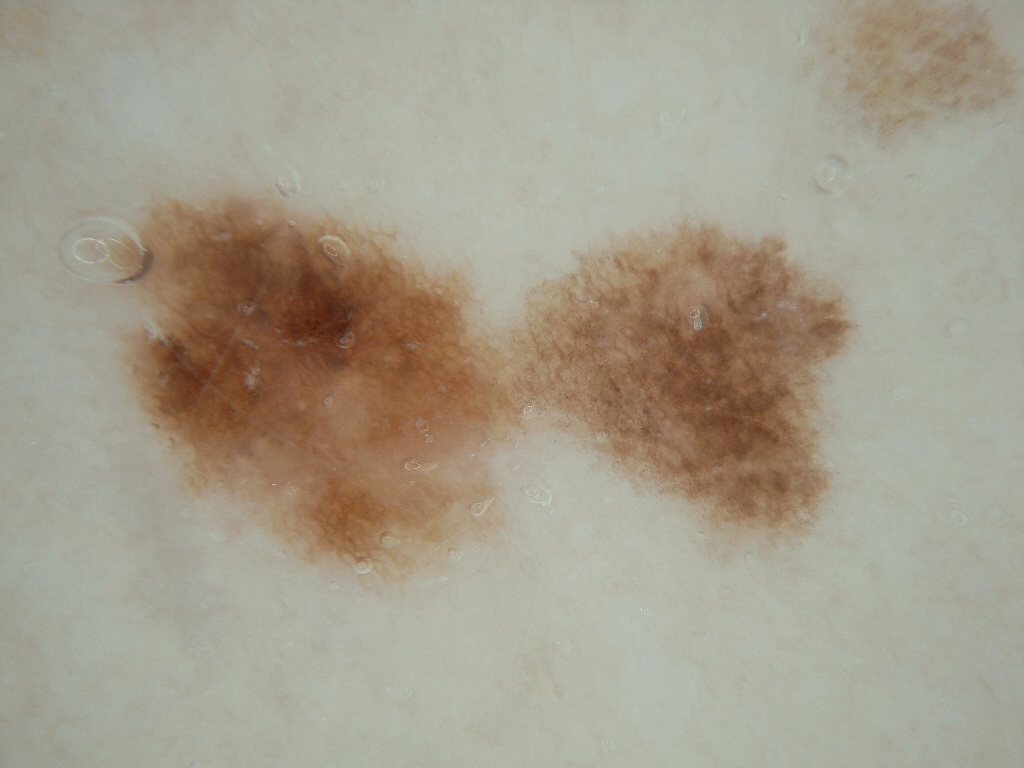Detected Lesion: (99, 185, 863, 590)
